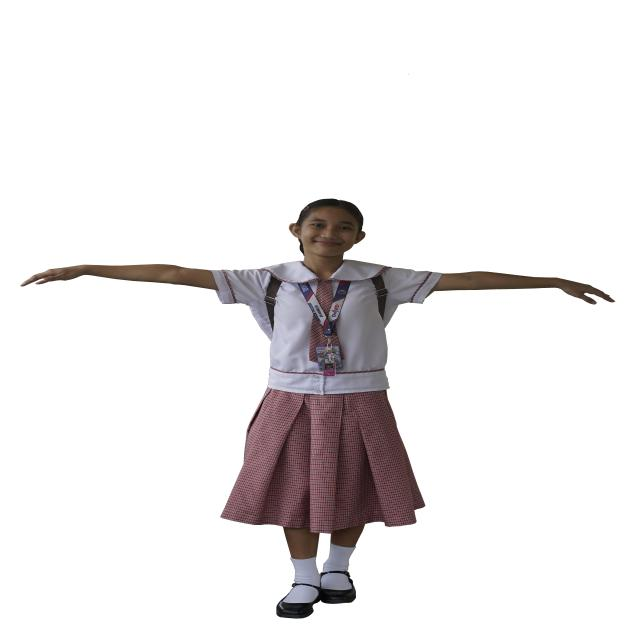id lace: (298, 281, 350, 377)
pologirl: (212, 260, 441, 395), (309, 321, 326, 362), (315, 280, 334, 314), (332, 329, 340, 345)
shoes: (276, 571, 356, 619)
skirt: (221, 389, 424, 533)
